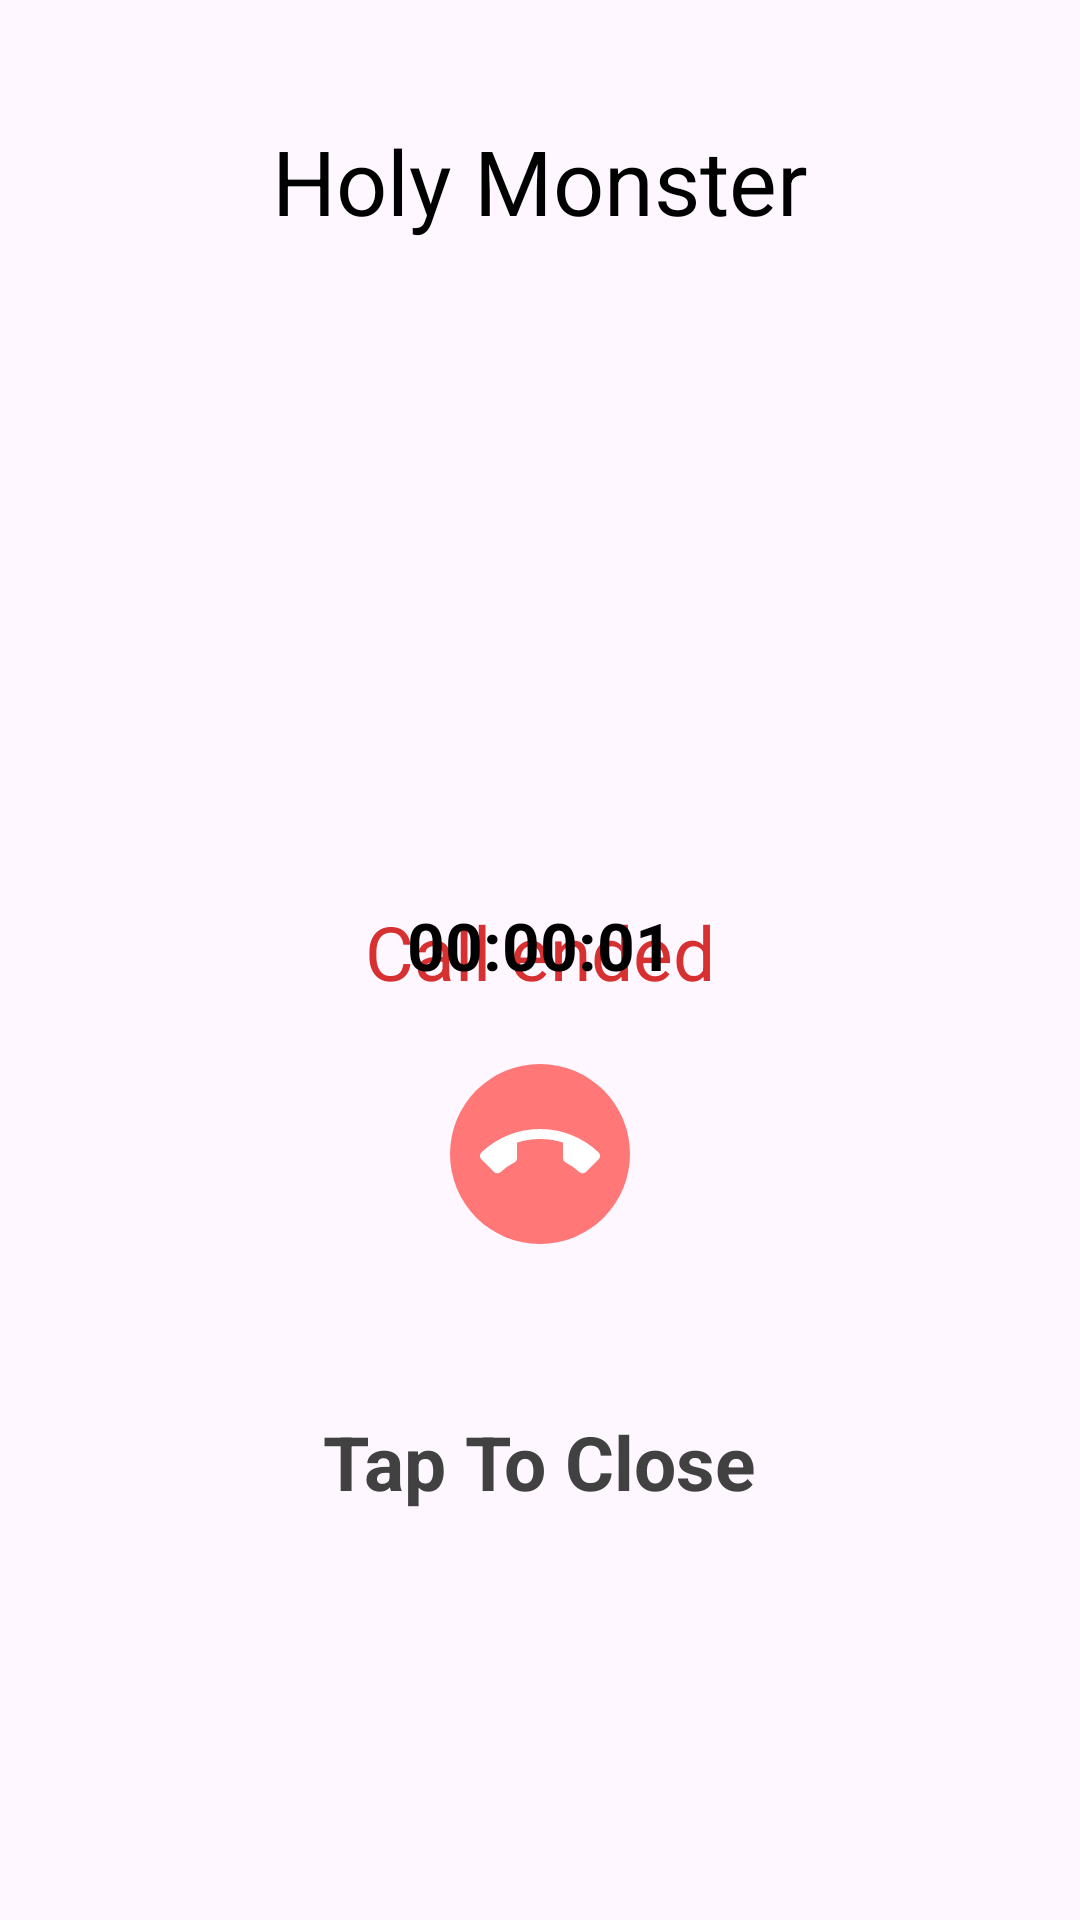

Named icons in this screenshot (1080×1920) and their bounding boxes, (x1, y1, x2, y2):
end call: (450, 1064, 630, 1244)
